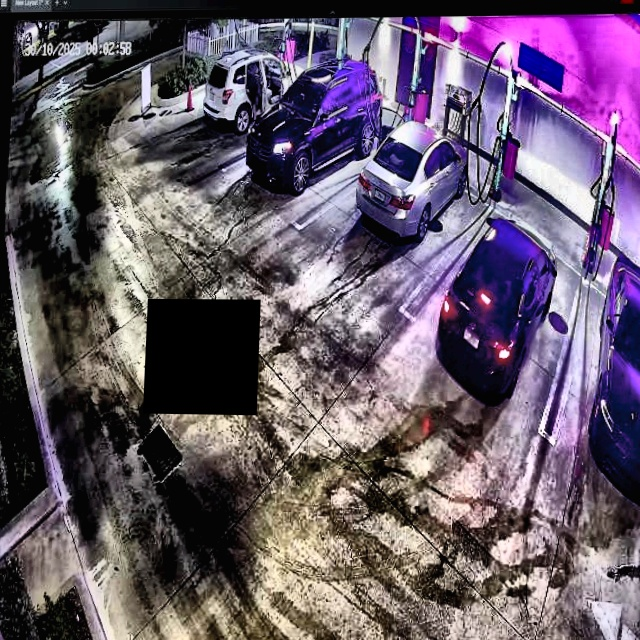Car: (435, 221, 559, 399), (244, 58, 382, 191), (354, 99, 468, 240)
